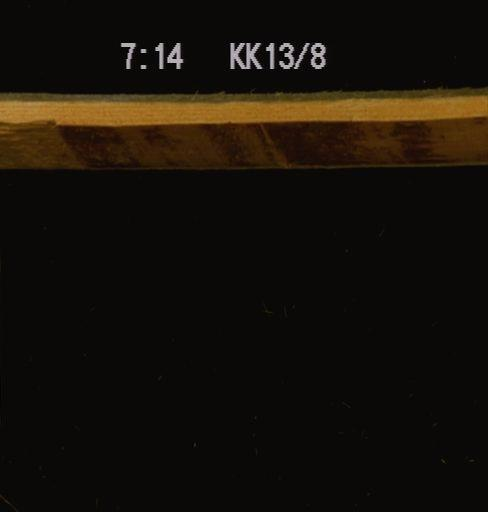wave: (0, 114, 487, 162)
